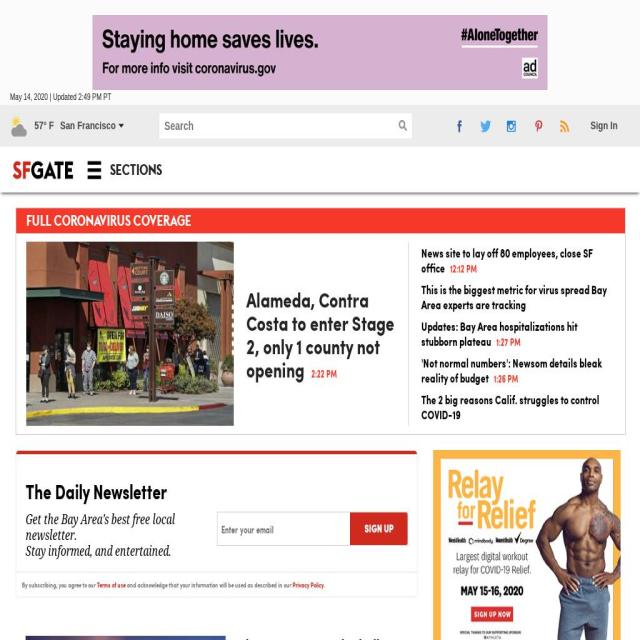button: (26, 242, 246, 426), (76, 146, 171, 192), (350, 512, 408, 546), (472, 108, 498, 144), (525, 108, 551, 144), (552, 108, 578, 144), (447, 108, 472, 144), (499, 108, 524, 144), (226, 636, 226, 636)
field: (164, 115, 390, 137), (217, 513, 349, 545), (398, 119, 408, 132)
heading: (25, 479, 418, 504), (51, 211, 191, 230), (26, 211, 52, 230)
iframe: (432, 450, 620, 640), (92, 15, 548, 90)
image: (26, 242, 234, 426), (16, 451, 418, 455), (10, 159, 76, 180), (26, 636, 226, 640), (11, 115, 27, 137), (480, 119, 491, 133), (560, 119, 570, 133), (507, 119, 516, 133), (534, 119, 542, 133), (457, 119, 462, 133)
link: (246, 284, 394, 384), (422, 281, 608, 312), (422, 354, 602, 386), (421, 391, 600, 422), (421, 244, 594, 276), (421, 318, 578, 349), (235, 633, 408, 640), (292, 580, 324, 590), (96, 580, 125, 590)
text: (26, 510, 175, 545), (26, 542, 171, 560), (60, 105, 122, 147), (496, 336, 541, 376), (450, 262, 494, 302), (494, 372, 538, 412), (125, 580, 292, 590), (10, 90, 112, 105), (110, 156, 162, 182), (311, 367, 337, 408), (22, 580, 97, 590), (85, 156, 104, 182), (34, 114, 54, 138), (590, 119, 618, 132)
